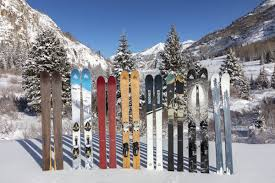skis: (37, 71, 65, 170), (211, 71, 235, 176), (70, 68, 93, 172), (190, 66, 211, 175), (120, 69, 142, 171), (95, 75, 118, 170), (166, 70, 186, 173), (145, 75, 164, 172)
